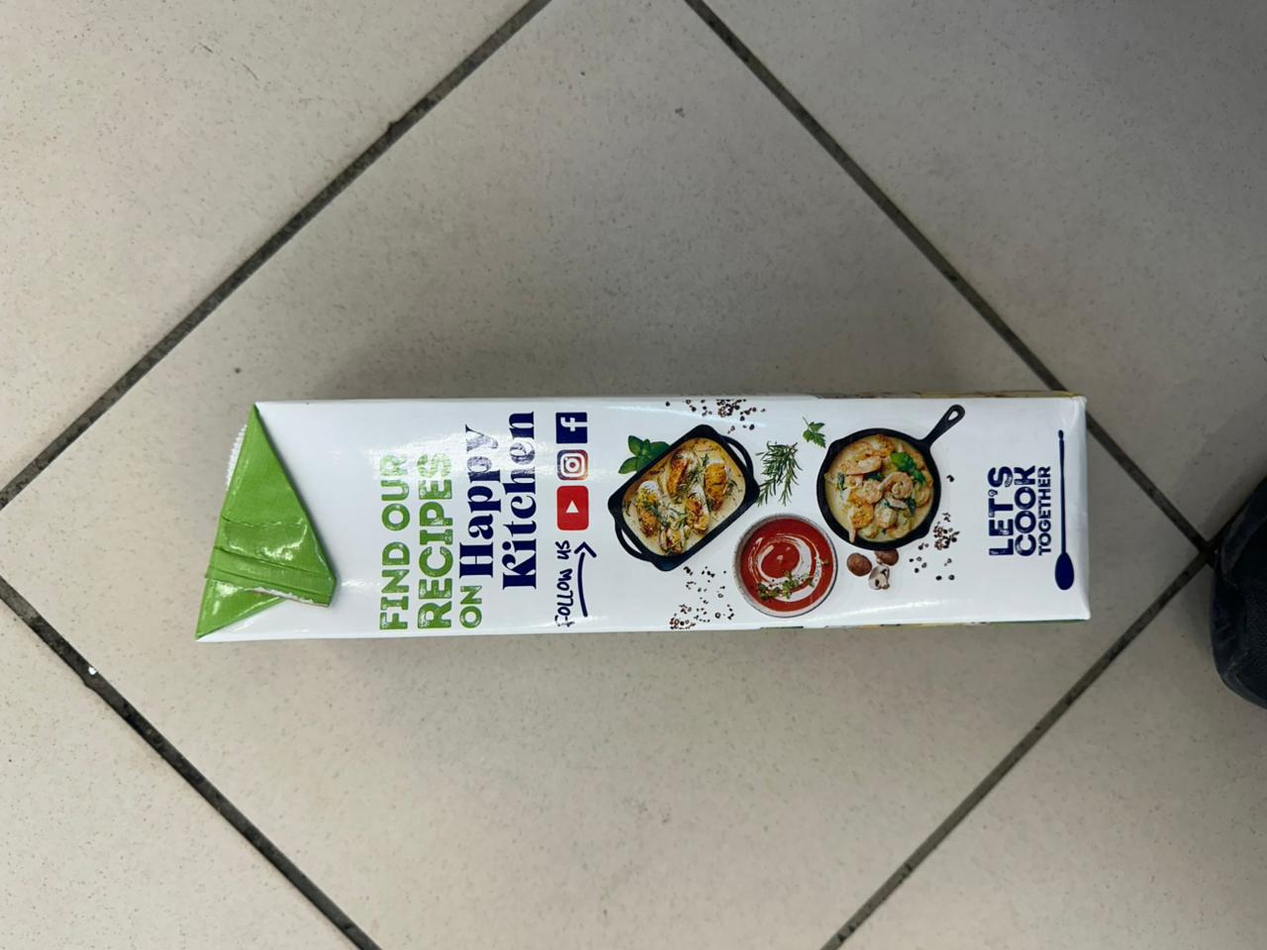cooking_cream: (196, 296, 1149, 622)
